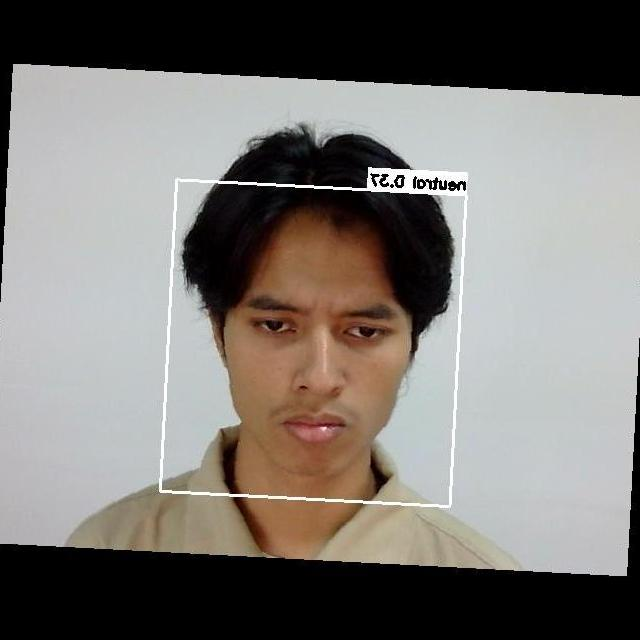Sad: (229, 268, 409, 458)
